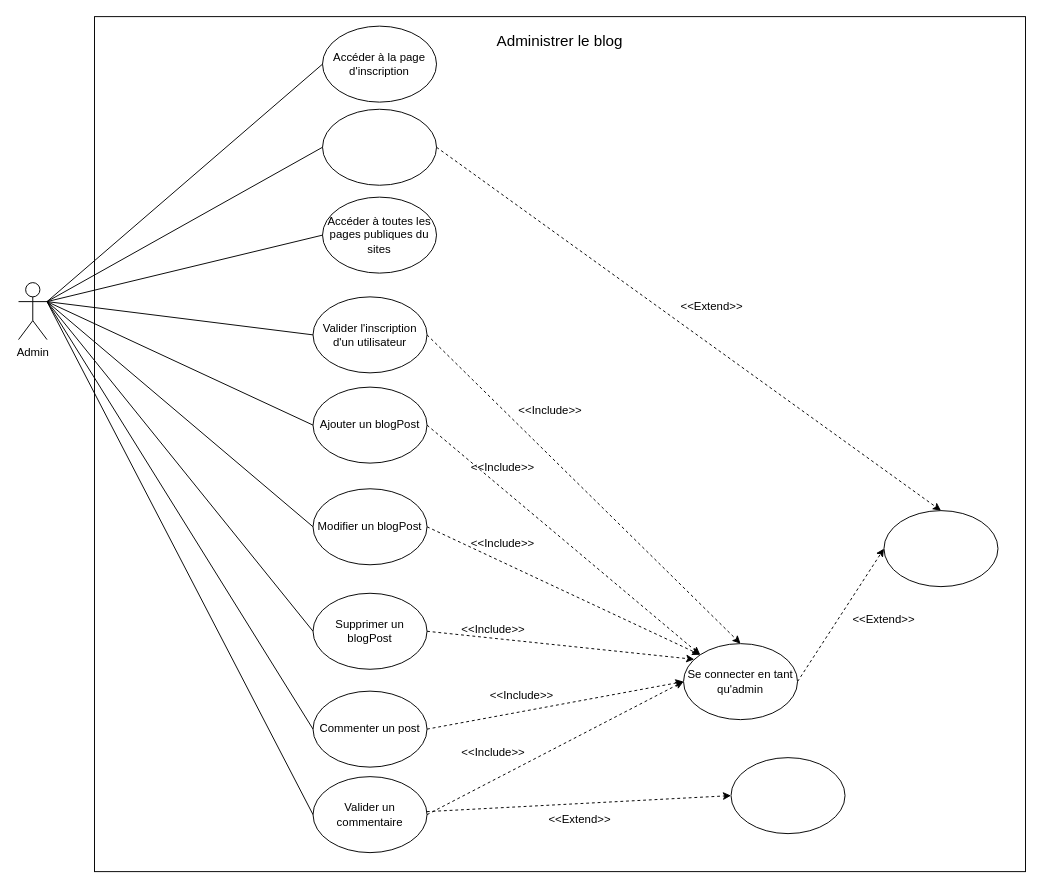
The diagram is 1042 pixels wide and 888 high, and some of its shapes have lost their labels. Here are the shapes that lost their labels. From the top down, the box of each, then its label:
(322, 108, 437, 185): Accéder à la page de connexion
(883, 510, 998, 587): Créer un compte admin
(730, 757, 845, 834): Supprimer un commentaire
